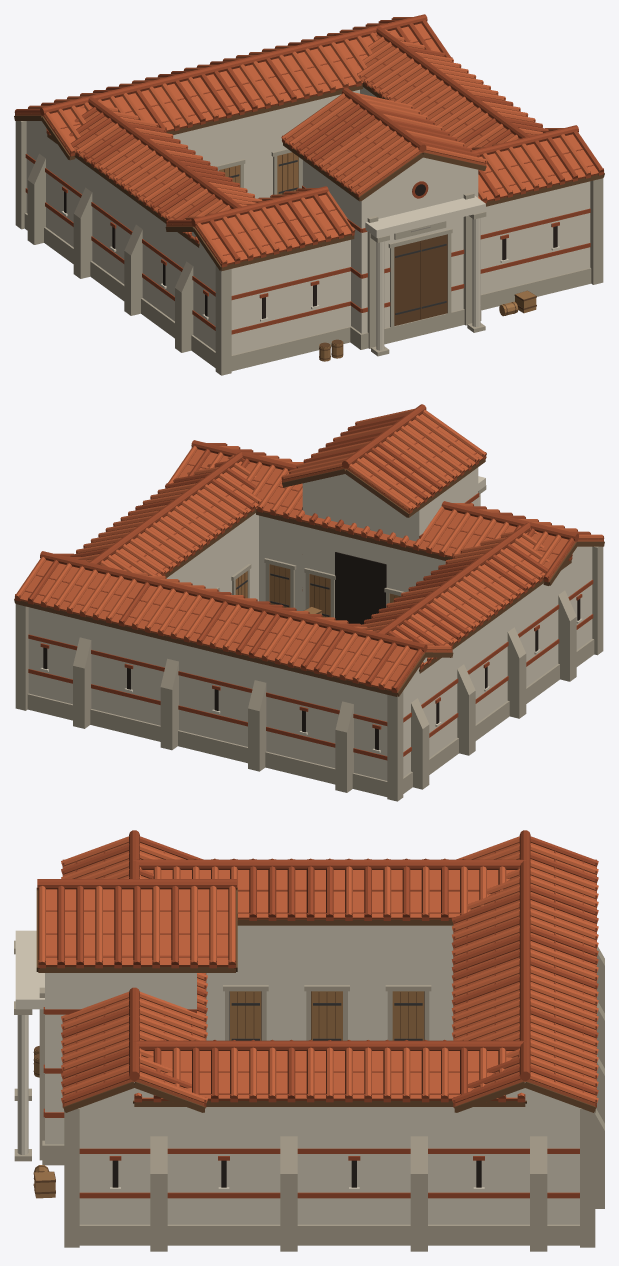
File: LagerGross.fbx
The picture shows the model from 3 angles, top to bottom: view 1: azimuth 30°, elevation 25°; view 2: azimuth 150°, elevation 25°; view 3: azimuth 270°, elevation 25°; orthographic projection. The views are drawn at different scales.
Parts seen in each view (by area): view 1: LagerGross_0; view 2: LagerGross_0; view 3: LagerGross_0.
Part boxes in pixels (<box>): LagerGross_0: <box>14,14,604,375</box>; LagerGross_0: <box>14,404,604,801</box>; LagerGross_0: <box>14,830,604,1251</box>.
Size of the model in its own units: 5.42 by 2.53 by 5.45.
